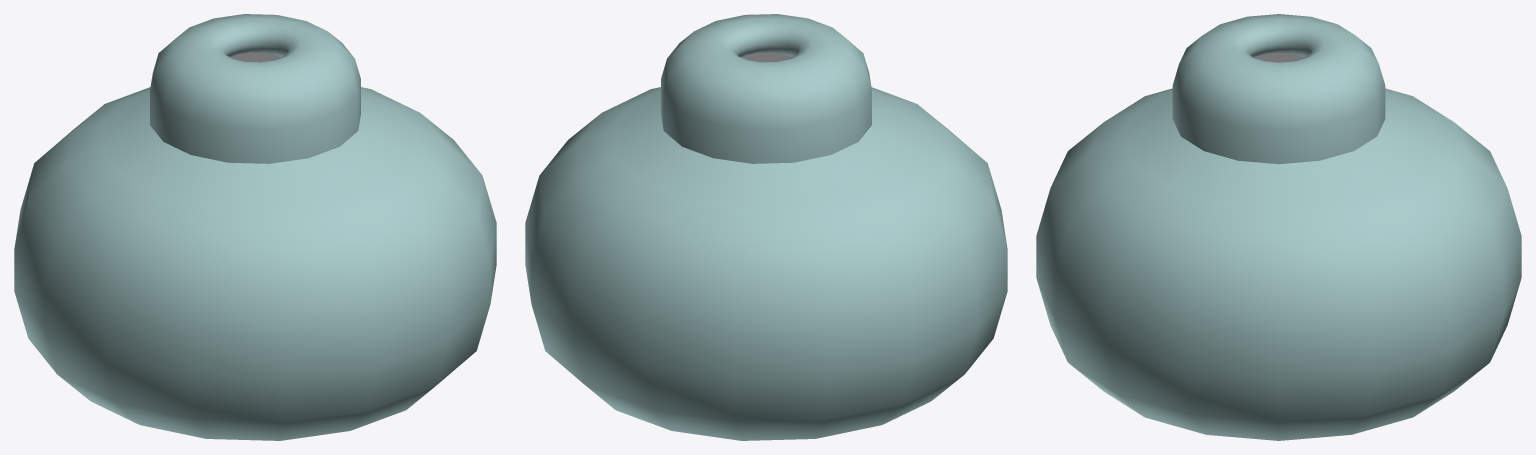
The model's file is LastLuna_Model_Station_Glass_Alcohol_Lamp.fbx.
3 renders of one model, left to right at view 1: azimuth 30°, elevation 25°; view 2: azimuth 150°, elevation 25°; view 3: azimuth 270°, elevation 25°, orthographic.
Visible parts, largest first — view 1: Alcohol_Lamp001; view 2: Alcohol_Lamp001; view 3: Alcohol_Lamp001.
Part boxes in pixels (<box>): Alcohol_Lamp001: <box>14,14,496,440</box>; Alcohol_Lamp001: <box>525,14,1007,440</box>; Alcohol_Lamp001: <box>1036,14,1521,440</box>.
Size of the model in its own units: 80 by 60 by 80.
